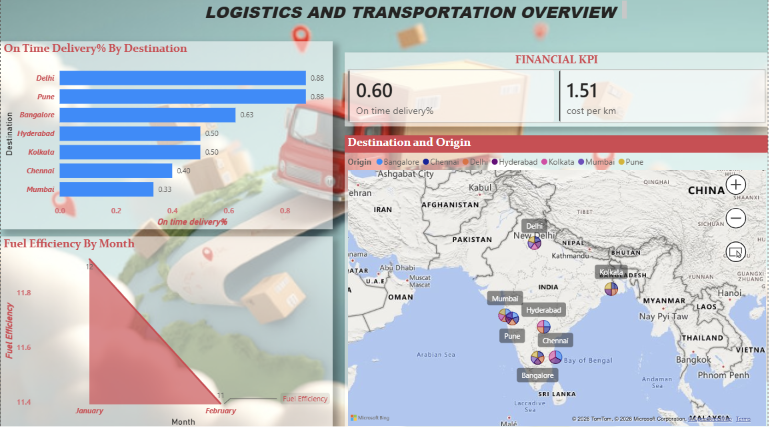

What the dashboard file says about the page in this screenshot:
{"tool":"powerbi","page":{"name":"Page 1","canvas":[1280,720],"ordinal":0},"visuals":[{"type":"clusteredBarChart","title":"On Time Delivery% By Destination","fields":{"Y":["Measure Table.One time delivery%"],"Category":["Trip_Data.Destination"]},"box":[0,73.3,553.3,313.3],"z":0},{"type":"map","fields":{"Series":["Trip_Data.Origin"],"Category":["Trip_Data.Destination"]},"box":[573.3,230,706.7,490],"z":1000},{"type":"lineChart","title":"Fuel Efficiency By Month","fields":{"Y":["Measure Table.Fuel Efficiency"],"Category":["Trip_Data.Delivery_Date.1.Variation.Date Hierarchy.Month"]},"box":[0,398.3,553.3,321.7],"z":2000},{"type":"textbox","box":[335,0,713.3,43.3],"z":3000},{"type":"cardVisual","title":"FINANCIAL KPI","fields":{"Data":["Measure Table.On time delivery%","Measure Table.cost per km"]},"box":[573.3,91.7,706.7,123.3],"z":4000}]}

Visuals, with their boxes in screenshot pixels (x1, y1, x2, y2), scaled from the page's 1280x720 canvas onto the 769x427 screenshot:
"On Time Delivery% By Destination" clusteredBarChart: region(0, 43, 332, 229)
map - Trip_Data.Origin x Trip_Data.Destination: region(344, 136, 768, 426)
"Fuel Efficiency By Month" lineChart: region(0, 236, 332, 426)
textbox: region(201, 0, 630, 26)
"FINANCIAL KPI" cardVisual: region(344, 54, 768, 128)
